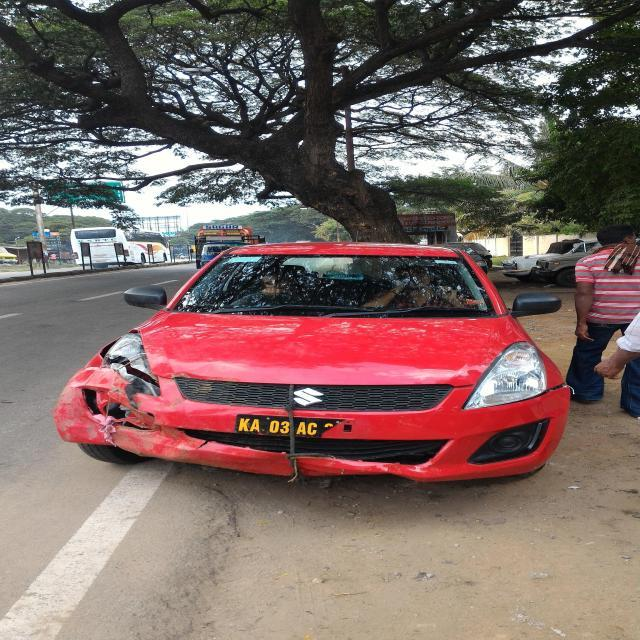damaged: (56, 334, 353, 486)
